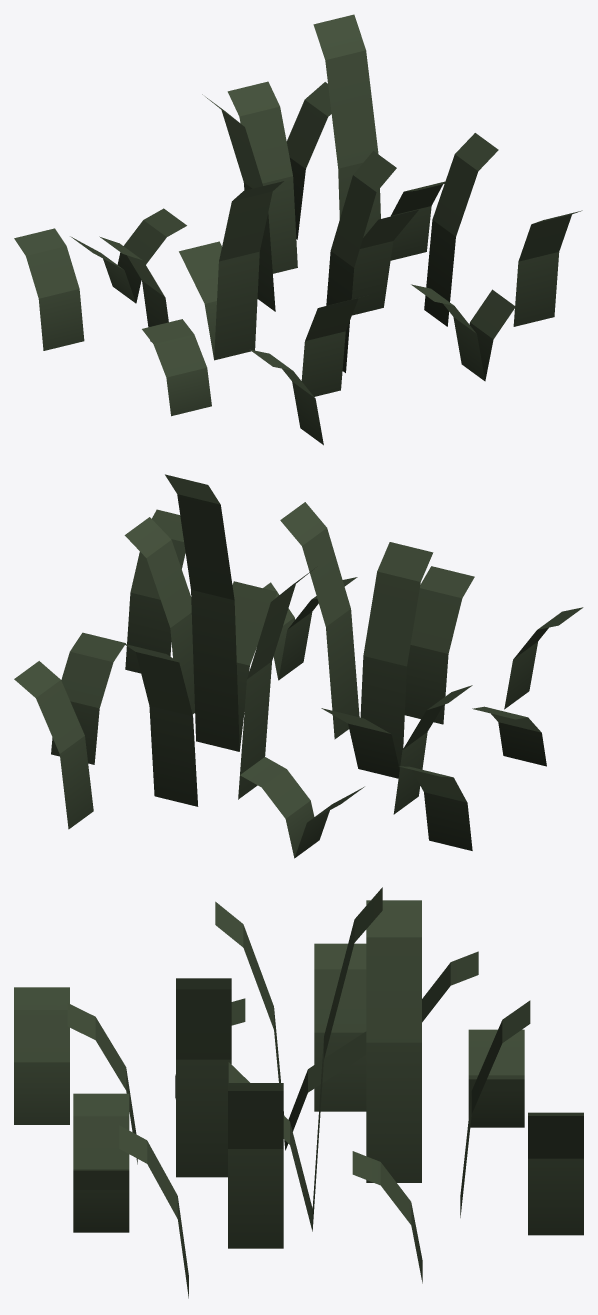
File: gras_hoch.glb
3 views of the same model, one above another, from view 1: azimuth 30°, elevation 25°; view 2: azimuth 150°, elevation 25°; view 3: azimuth 270°, elevation 25° (orthographic). The views are drawn at different scales.
Visible parts, largest first — view 1: gras_hoch; view 2: gras_hoch; view 3: gras_hoch.
Boxes of the visible parts, x1,y1,x2,y2 form: gras_hoch: (14,14,582,445); gras_hoch: (14,474,583,858); gras_hoch: (14,887,583,1298).
Bounding box in the file's own units: 0.7729 × 0.48 × 0.7708.
